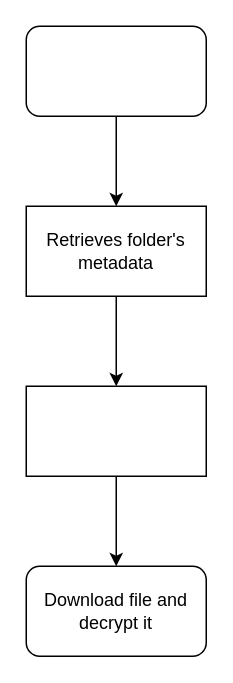
This 233x683 diagram has some shape labels left out. Here are the shapes that lost their labels. From the top down, the centre of each, then its label:
[115,70]: Select file to download
[115,430]: Retrieves folder's sym. key (shared or not)
